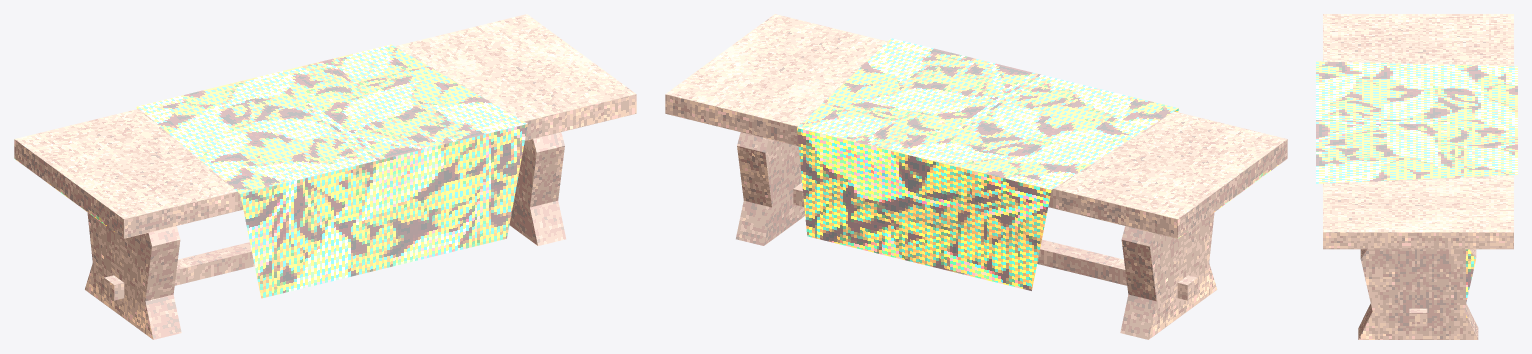
The model's file is table_2.glb.
The picture shows the model from 3 angles, left to right: view 1: azimuth 30°, elevation 25°; view 2: azimuth 150°, elevation 25°; view 3: azimuth 270°, elevation 25°; orthographic projection. The views are drawn at different scales.
Visible parts, largest first — view 1: Table_2; view 2: Table_2; view 3: Table_2.
Part boxes in pixels (<box>): Table_2: <box>14,14,636,339</box>; Table_2: <box>665,14,1287,339</box>; Table_2: <box>1316,14,1517,339</box>.
Size of the model in its own units: 7.52 by 2.08 by 2.94.
